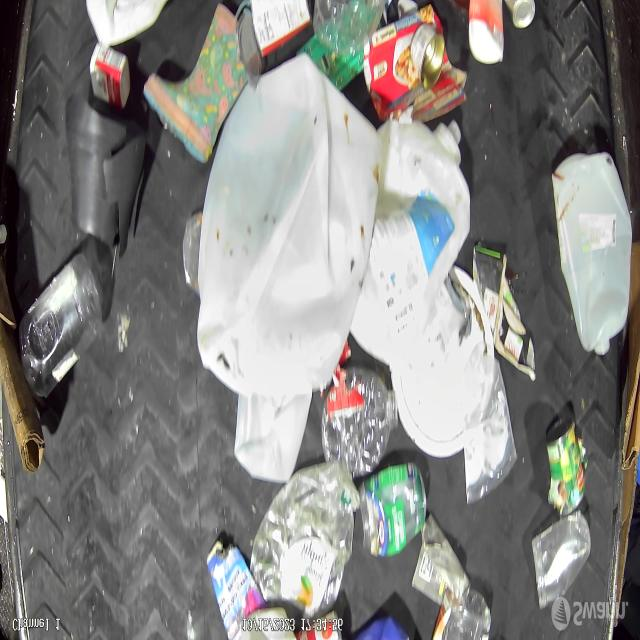can: (547, 413, 587, 512), (408, 28, 444, 90)
milk_jug: (200, 56, 373, 395), (377, 128, 468, 360), (551, 156, 629, 354)
